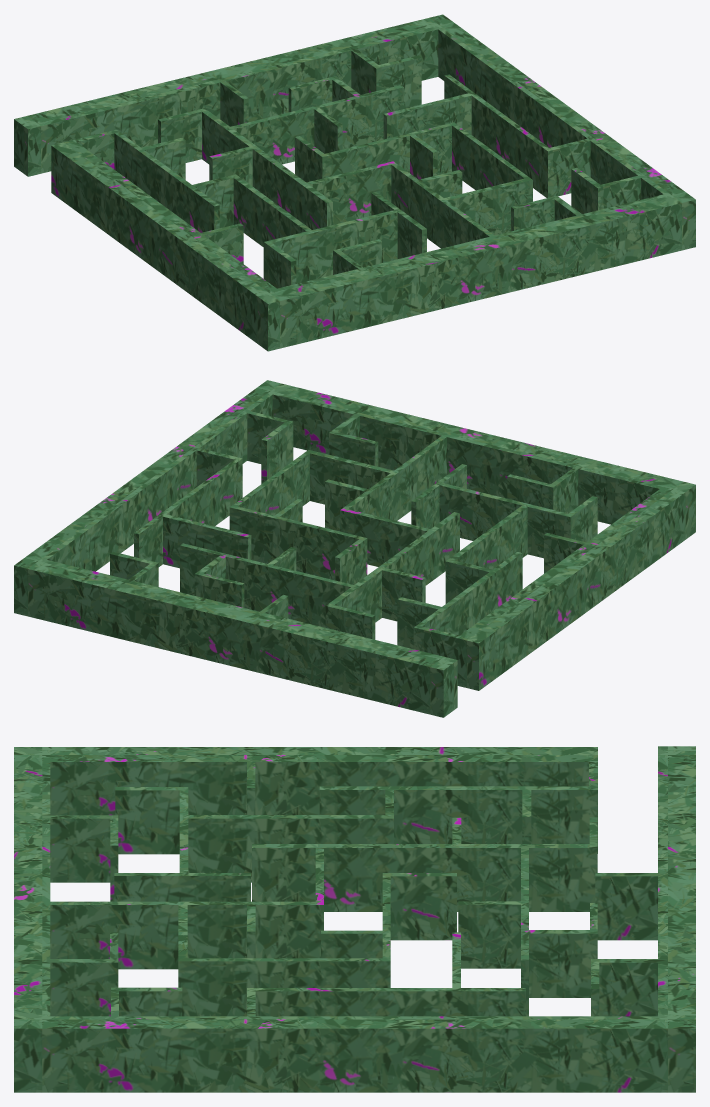
File: Maze1.fbx
3 renders of one model, top to bottom at view 1: azimuth 30°, elevation 25°; view 2: azimuth 150°, elevation 25°; view 3: azimuth 270°, elevation 25°, orthographic. The views are drawn at different scales.
Parts seen in each view (by area): view 1: Maze1; view 2: Maze1; view 3: Maze1.
Part boxes in pixels (x1,y1,x2,y2): Maze1: (14, 14, 695, 351); Maze1: (14, 380, 695, 717); Maze1: (14, 746, 695, 1092).
Size of the model in its own units: 107 by 11.29 by 109.
